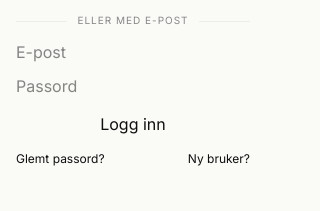
it: LoginForm › shows an error message when sign in fails
The width and height of the screenshot is (320, 211).
Type "wrong@example.com" into the field with placeholder "E-post" at (133, 52), box [16,40,250,64]
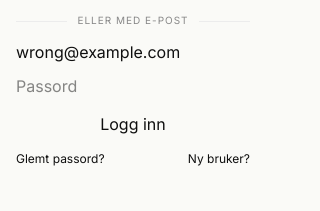
Type "bad" into the password field with placeholder "Passord" at (133, 86), box [16,74,250,98]
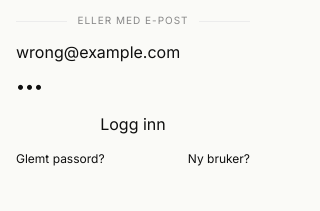
Click the button "Logg inn" at (133, 124), box [16,112,250,136]
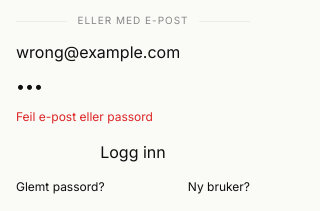
Result: the text "Feil e-post eller passord" is shown at [16,109,153,124]
